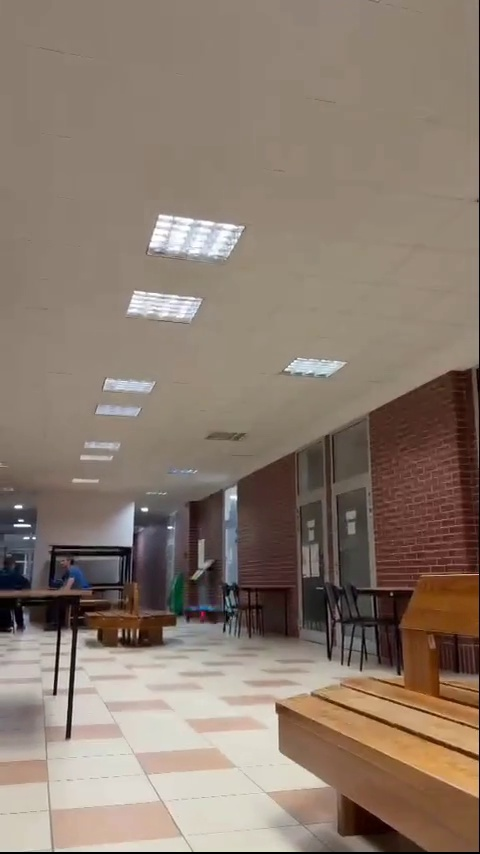drone: (182, 602, 234, 626)
no vest: (53, 556, 93, 617)
